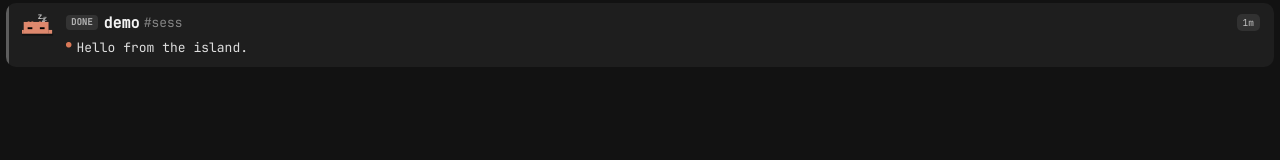
Test: SessionCard › keeps the surface on a failed jump and ignores completion from an older surface
The width and height of the screenshot is (1280, 160).
Later steps or results of the test are not shown.
Click the element showing "DONE demo #sess 1m ● Hello from the island. ⠿". click: (640, 35)
box: [6,3,1274,67]
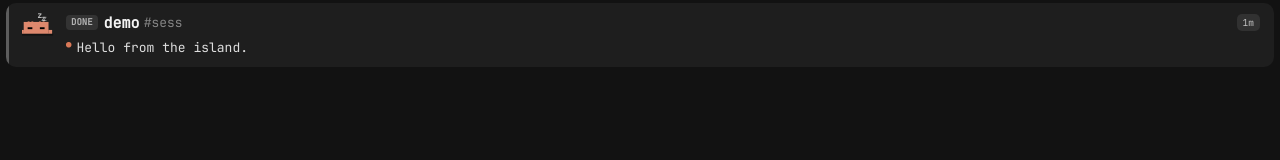
Now the element showing "DONE demo #sess 1m ● Hello from the island. ⠿" has attribute data-jump-failed="true", box [6,3,1274,67]
